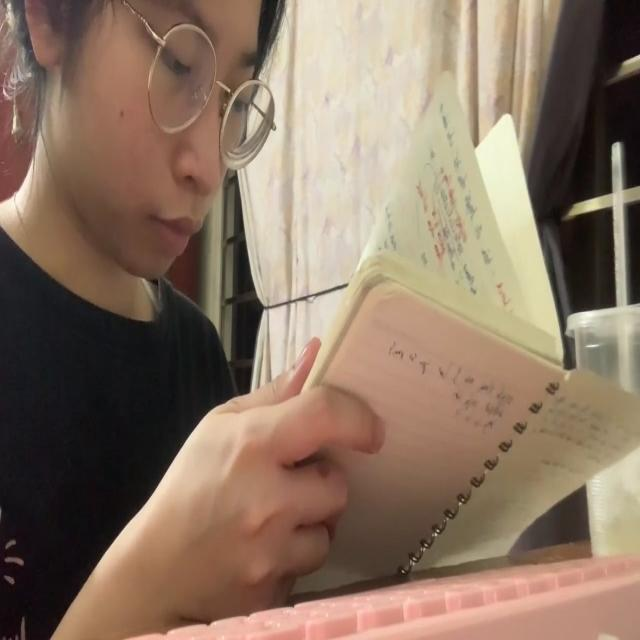book: (281, 64, 640, 578)
student: (0, 0, 389, 640)
